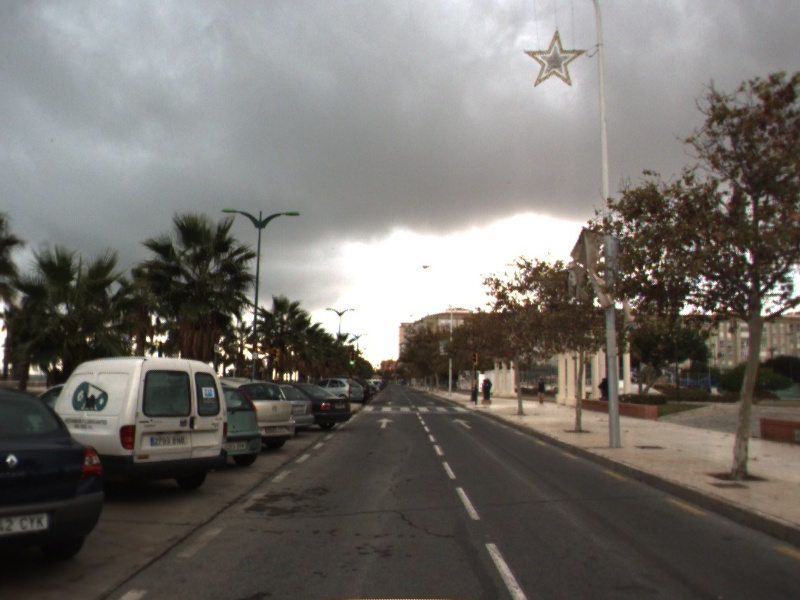STRAIGHT: (450, 417, 474, 430), (374, 416, 396, 429)
